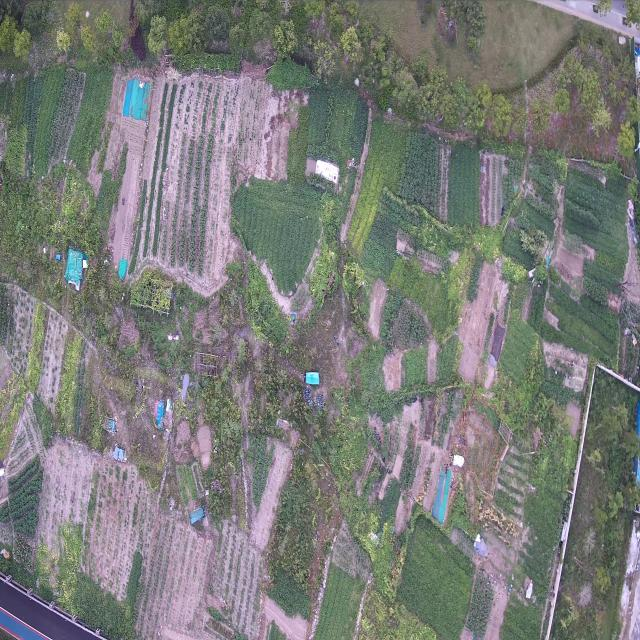UAV: (174, 370, 198, 405)
